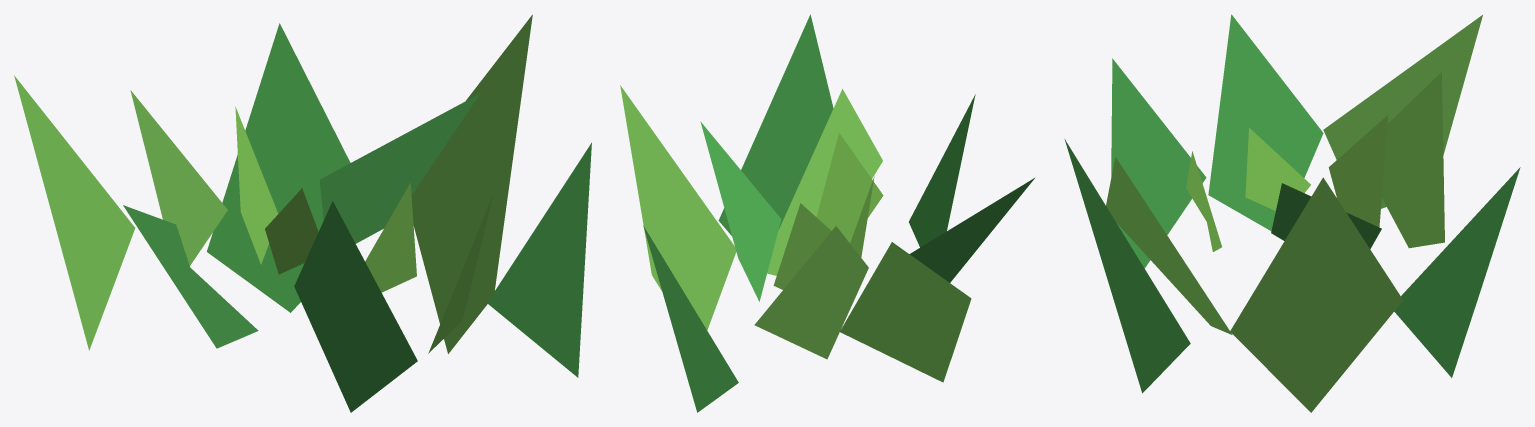
The model's file is potatoe_stage_2.glb.
3 renders of one model, left to right at view 1: azimuth 30°, elevation 25°; view 2: azimuth 150°, elevation 25°; view 3: azimuth 270°, elevation 25°, orthographic. The views are drawn at different scales.
Visible parts, largest first — view 1: Plane.042, Plane.053, Plane.036, Plane.050, Plane.046, Plane.030, Plane.044, Plane.054, Plane.045, Plane.058, Plane.057, Plane.056; view 2: Plane.042, Plane.046, Plane.050, Plane.044, Plane.030, Plane.053, Plane.056, Plane.045, Plane.054, Plane.036, Plane.058, Plane.057; view 3: Plane.042, Plane.054, Plane.053, Plane.050, Plane.044, Plane.036, Plane.046, Plane.056, Plane.058, Plane.057, Plane.030, Plane.045.
Boxes of the visible parts, <box> form: Plane.042: <box>411,14,532,353</box>; Plane.053: <box>207,23,350,312</box>; Plane.036: <box>294,201,417,412</box>; Plane.050: <box>487,142,591,377</box>; Plane.046: <box>14,75,135,350</box>; Plane.030: <box>319,94,479,243</box>; Plane.044: <box>130,90,227,265</box>; Plane.054: <box>123,205,258,348</box>; Plane.045: <box>365,183,416,292</box>; Plane.058: <box>235,106,278,264</box>; Plane.057: <box>265,188,318,274</box>; Plane.056: <box>428,193,493,353</box>; Plane.042: <box>620,85,736,330</box>; Plane.046: <box>840,242,971,382</box>; Plane.050: <box>718,14,833,235</box>; Plane.044: <box>754,226,868,359</box>; Plane.030: <box>700,121,781,301</box>; Plane.053: <box>643,225,738,412</box>; Plane.056: <box>767,89,882,275</box>; Plane.045: <box>816,133,883,242</box>; Plane.054: <box>909,177,1035,282</box>; Plane.036: <box>909,94,975,247</box>; Plane.058: <box>773,203,831,289</box>; Plane.057: <box>850,176,874,257</box>; Plane.042: <box>1230,177,1403,412</box>; Plane.054: <box>1208,14,1323,230</box>; Plane.053: <box>1394,167,1520,377</box>; Plane.050: <box>1064,139,1190,393</box>; Plane.044: <box>1382,72,1444,248</box>; Plane.036: <box>1111,58,1206,268</box>; Plane.046: <box>1323,15,1482,208</box>; Plane.056: <box>1106,157,1232,334</box>; Plane.058: <box>1328,115,1388,227</box>; Plane.057: <box>1245,127,1310,210</box>; Plane.030: <box>1271,183,1381,248</box>; Plane.045: <box>1186,151,1221,251</box>.
Bounding box in the file's own units: 0.8577 × 0.5573 × 0.8348.
